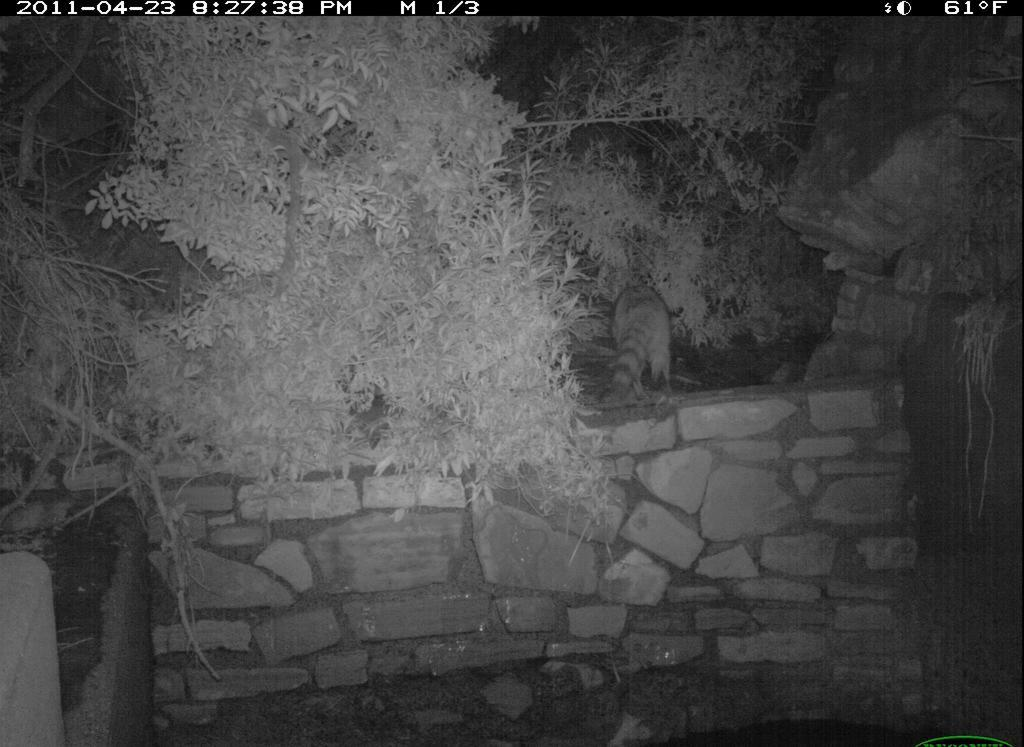raccoon: (589, 269, 712, 418)
